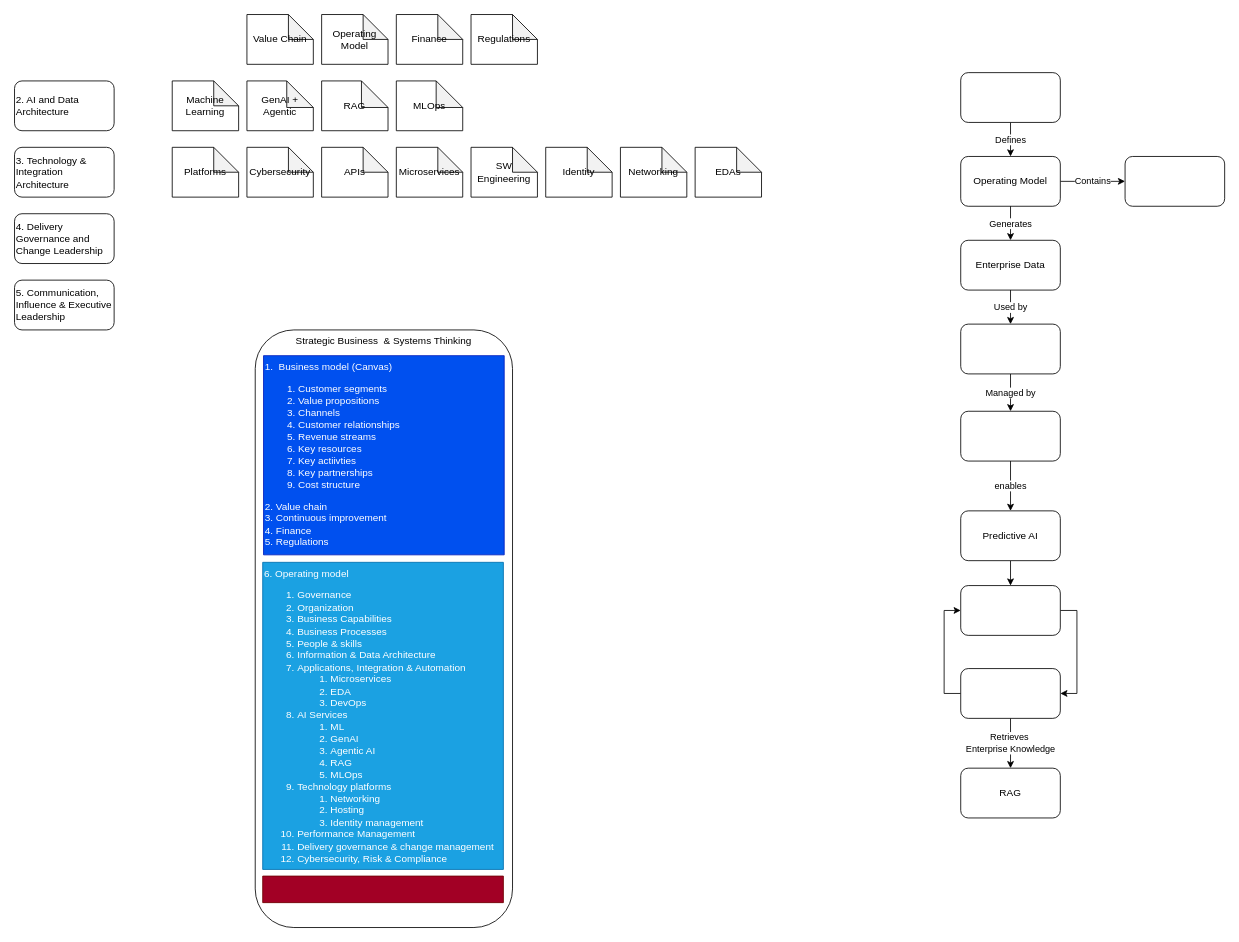
Some shapes in this 1239 by 942 pixel diagram are drawn without their labels. The centre of each missing label's shape, as x and y in pixels:
7. Communication, Influence & Executive Leadership: (x=382, y=889)
Agentic AI: (x=1010, y=693)
Business Model: (x=1010, y=97)
Business Processes: (x=1174, y=181)
GenAI: (x=1010, y=610)
Machine Learning Models: (x=1010, y=348)
Machine Learning Ops: (x=1010, y=435)
